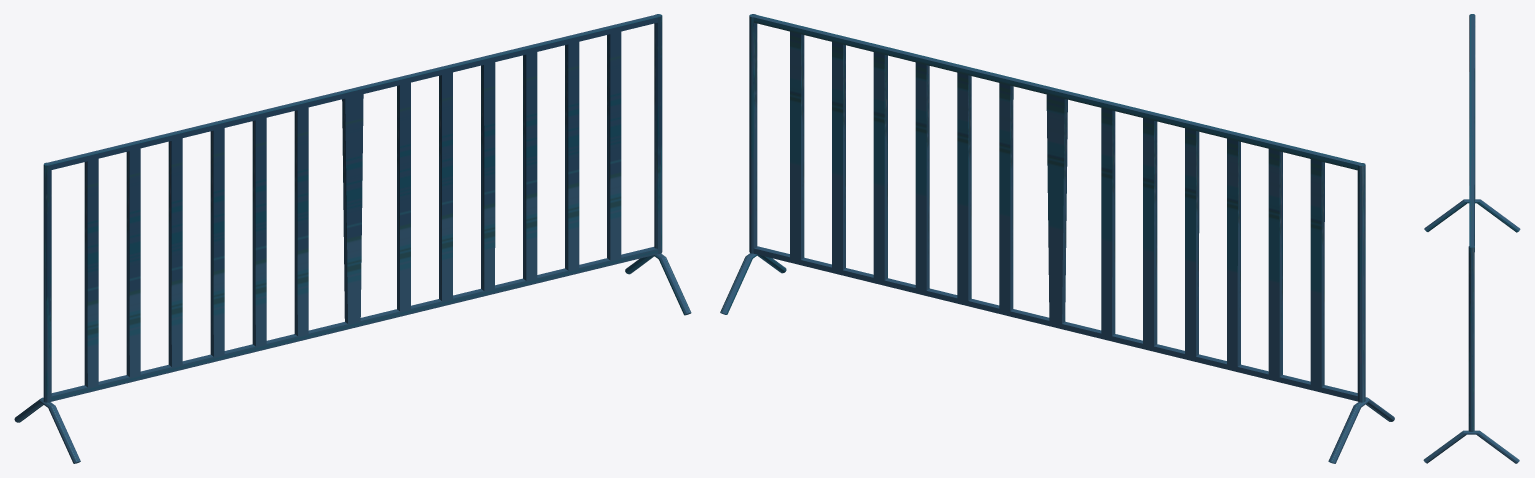
Rendered from vallasPoliciax1.fbx.
3 views of the same model, side by side, from view 1: azimuth 30°, elevation 25°; view 2: azimuth 150°, elevation 25°; view 3: azimuth 270°, elevation 25° (orthographic). The views are drawn at different scales.
Visible parts, largest first — view 1: vallasPolicia.003; view 2: vallasPolicia.003; view 3: vallasPolicia.003.
Part boxes in pixels (x1,y1,x2,y2): vallasPolicia.003: [14, 14, 691, 463]; vallasPolicia.003: [720, 14, 1394, 463]; vallasPolicia.003: [1423, 14, 1520, 463].
Size of the model in its own units: 6.06 by 2.62 by 1.06.
